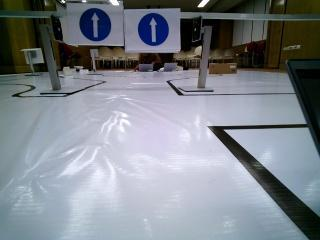straight: (68, 6, 126, 48), (126, 11, 179, 51)
